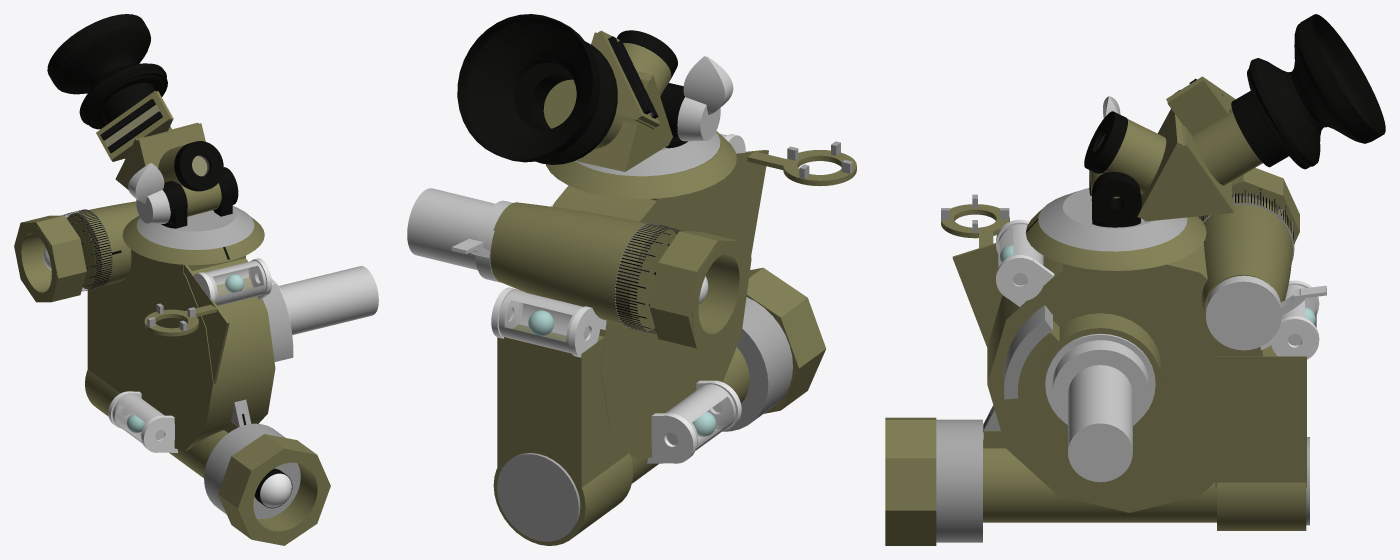
The model's file is прицел.fbx.
The picture shows the model from 3 angles, left to right: view 1: azimuth 30°, elevation 25°; view 2: azimuth 150°, elevation 25°; view 3: azimuth 270°, elevation 25°; orthographic projection. The views are drawn at different scales.
Visible parts, largest first — view 1: Объект_Цилиндр_3_2, Объект_Труба_1_2, Объект_Цилиндр_2, Объект_Труба_10, Объект_Цилиндр_6, Объект_Труба_9, Объект_Цилиндр_5_2, Объект_Цилиндр_7, Объект_Труба_16, Объект_Цилиндр_3_3, Объект_Труба_17, Объект_Куб_5_2 (+27 smaller); view 2: Объект_Труба_1_2, Объект_Цилиндр_6, Объект_Цилиндр_3_2, Объект_Куб_11, Объект_Цилиндр_2_3, Объект_Труба_16, Объект_Труба_9, Объект_Цилиндр_7, Объект_Цилиндр_2, Объект_Цилиндр_3_3, Объект_Труба_17, Объект_Куб_5_2 (+26 smaller); view 3: Объект_Цилиндр_3_2, Объект_Куб_11, Объект_Труба_1_2, Объект_Цилиндр_1_6, Объект_Цилиндр_2, Объект_Труба_9, Объект_Цилиндр_6, Объект_Цилиндр_7, Объект_Куб_5_2, Объект_Цилиндр_5_2, Объект_Цилиндр_1_2, Объект_Цилиндр_5 (+20 smaller).
Part boxes in pixels (x1,y1,x2,y2): Объект_Цилиндр_3_2: [101, 249, 275, 450]; Объект_Труба_1_2: [47, 14, 166, 126]; Объект_Цилиндр_2: [279, 266, 378, 334]; Объект_Труба_10: [243, 452, 327, 541]; Объект_Цилиндр_6: [67, 201, 138, 289]; Объект_Труба_9: [218, 434, 330, 545]; Объект_Цилиндр_5_2: [137, 206, 254, 249]; Объект_Цилиндр_7: [204, 423, 300, 518]; Объект_Труба_16: [14, 215, 86, 302]; Объект_Цилиндр_3_3: [122, 216, 264, 265]; Объект_Труба_17: [16, 224, 56, 301]; Объект_Куб_5_2: [115, 122, 205, 189]; Объект_Труба_1_2: [457, 14, 617, 164]; Объект_Цилиндр_6: [490, 202, 676, 331]; Объект_Цилиндр_3_2: [552, 179, 751, 460]; Объект_Куб_11: [497, 324, 629, 493]; Объект_Цилиндр_2_3: [497, 453, 580, 541]; Объект_Труба_16: [649, 231, 747, 348]; Объект_Труба_9: [746, 267, 826, 413]; Объект_Цилиндр_7: [722, 297, 792, 431]; Объект_Цилиндр_2: [407, 188, 494, 270]; Объект_Цилиндр_3_3: [546, 131, 736, 199]; Объект_Труба_17: [692, 241, 745, 346]; Объект_Куб_5_2: [575, 71, 672, 171]; Объект_Цилиндр_3_2: [987, 242, 1262, 512]; Объект_Куб_11: [1215, 345, 1306, 487]; Объект_Труба_1_2: [1248, 14, 1385, 166]; Объект_Цилиндр_1_6: [983, 440, 1216, 522]; Объект_Цилиндр_2: [1068, 365, 1132, 482]; Объект_Труба_9: [885, 417, 936, 545]; Объект_Цилиндр_6: [1201, 198, 1292, 319]; Объект_Цилиндр_7: [936, 419, 982, 542]; Объект_Куб_5_2: [1137, 109, 1233, 221]; Объект_Цилиндр_5_2: [1038, 188, 1187, 251]; Объект_Цилиндр_1_2: [1206, 275, 1281, 350]; Объект_Цилиндр_5: [1217, 482, 1306, 530].
Bounding box in the file's own units: 116 × 165 × 144.
8 materials, 1 textured.
